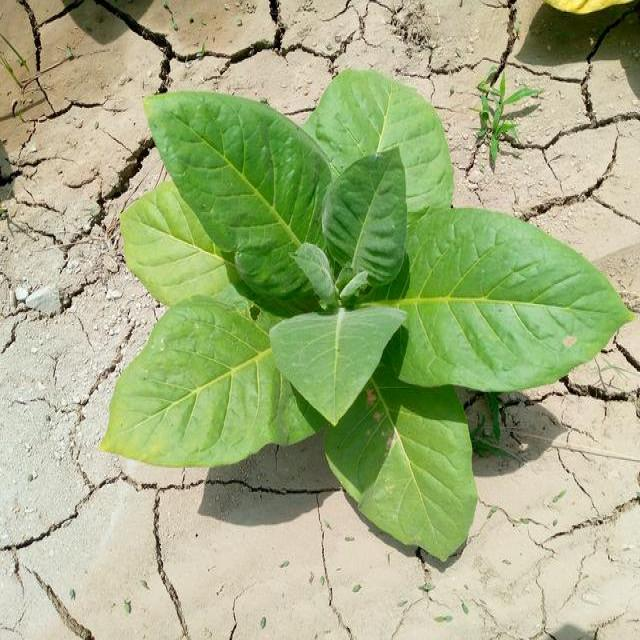crop: (110, 75, 624, 559)
